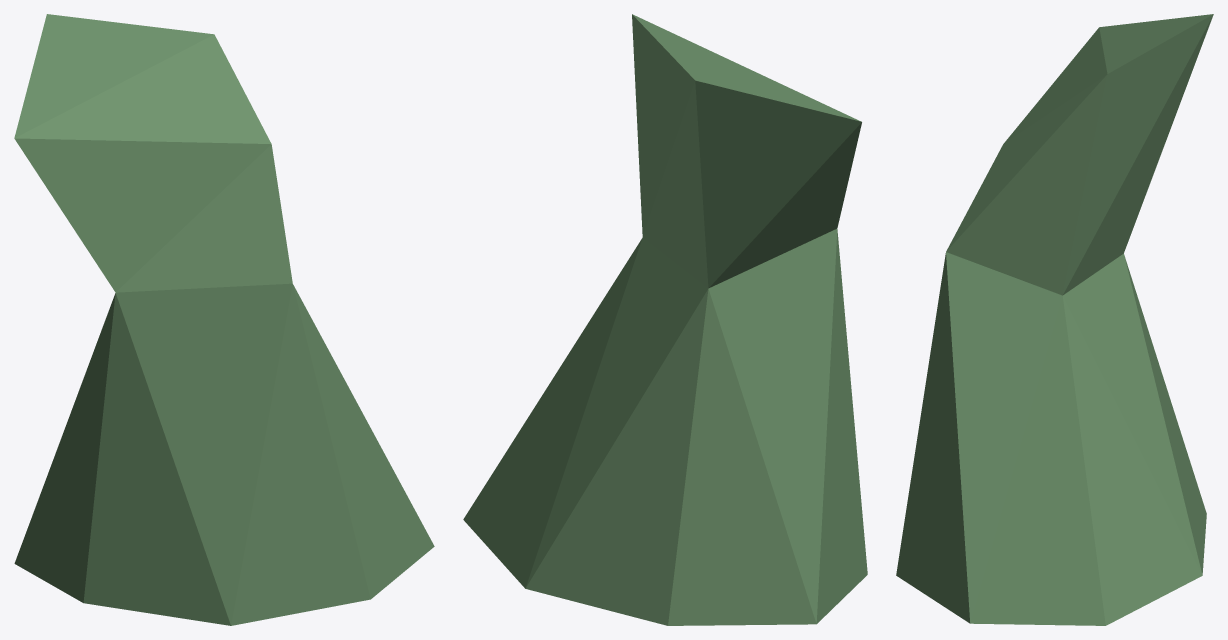
File: RightRearLeg.fbx
3 renders of one model, left to right at view 1: azimuth 30°, elevation 25°; view 2: azimuth 150°, elevation 25°; view 3: azimuth 270°, elevation 25°, orthographic. The views are drawn at different scales.
Parts seen in each view (by area): view 1: LeftRear; view 2: LeftRear; view 3: LeftRear.
Part boxes in pixels (bbox=[...]): LeftRear: bbox=[14, 14, 434, 625]; LeftRear: bbox=[463, 14, 867, 625]; LeftRear: bbox=[896, 14, 1213, 625].
Bounding box in the file's own units: 0.3827 × 0.5144 × 0.3045.
